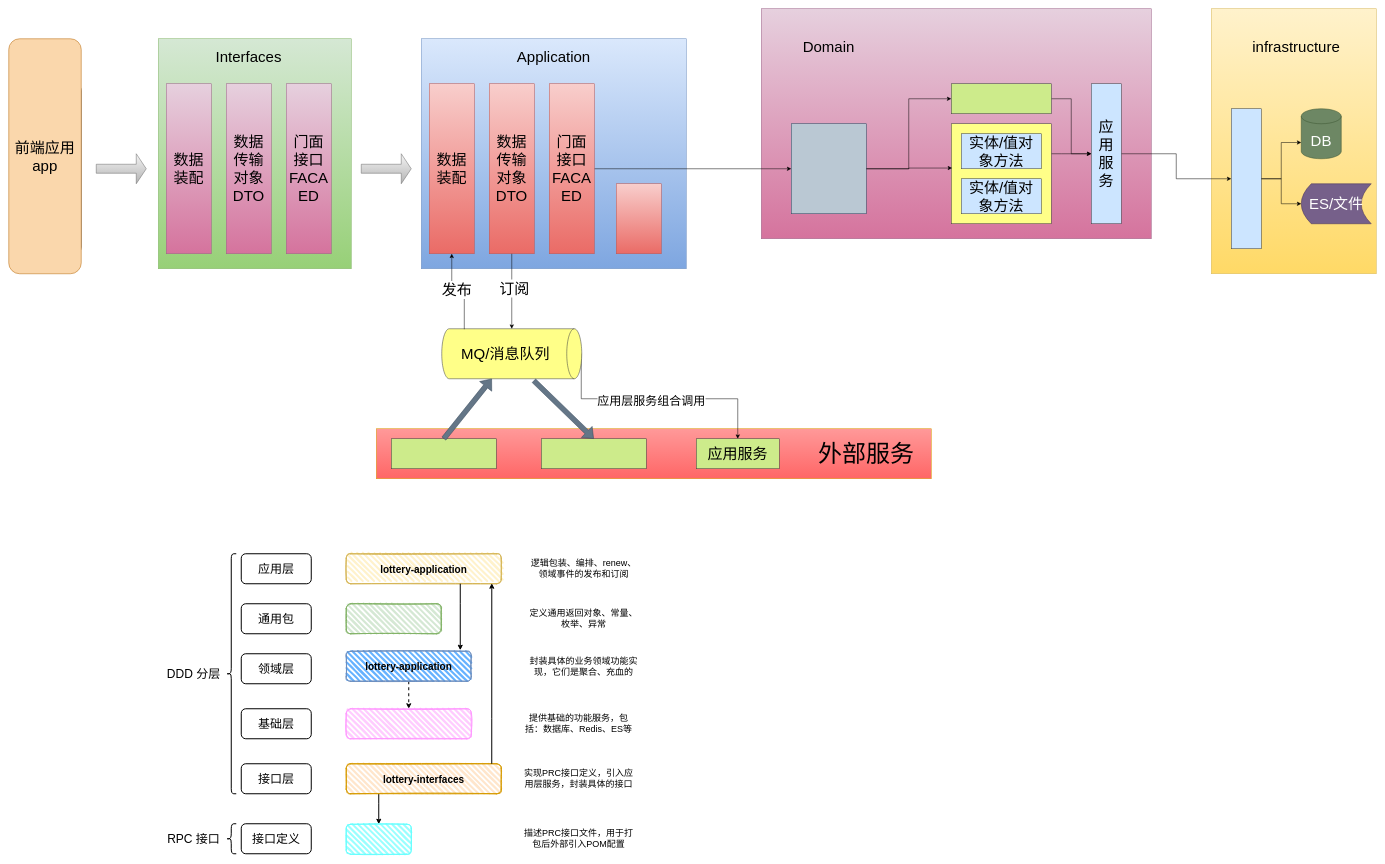
Image size: 1385x864. Some labels were removed from this diagram. The shapes that lost their labels are listed below. From the top down, each one's centre as x and y in pixels, then its label:
the point at 1001,98: 实体/值对象
the point at 828,168: 领域服务
the point at 1246,178: 仓储服务实现
the point at 638,218: 仓储服务接口
the point at 443,453: 应用事件发布
the point at 593,453: 应用事件处理
the point at 394,618: lottery-common
the point at 409,723: lottery-infrastructure
the point at 379,839: lottery-rpc
